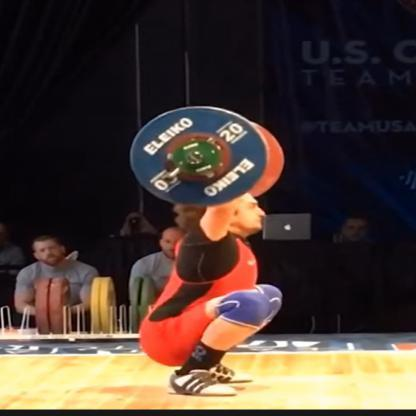barbell: (131, 107, 284, 204)
